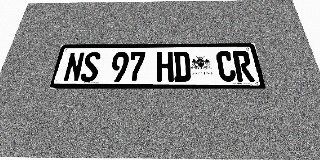7: (127, 52, 145, 82)
9: (110, 52, 129, 82)
C: (215, 51, 237, 82)
D: (173, 51, 191, 82)
H: (156, 52, 173, 82)
N: (63, 52, 85, 82)
R: (232, 51, 255, 82)
S: (80, 52, 101, 82)
